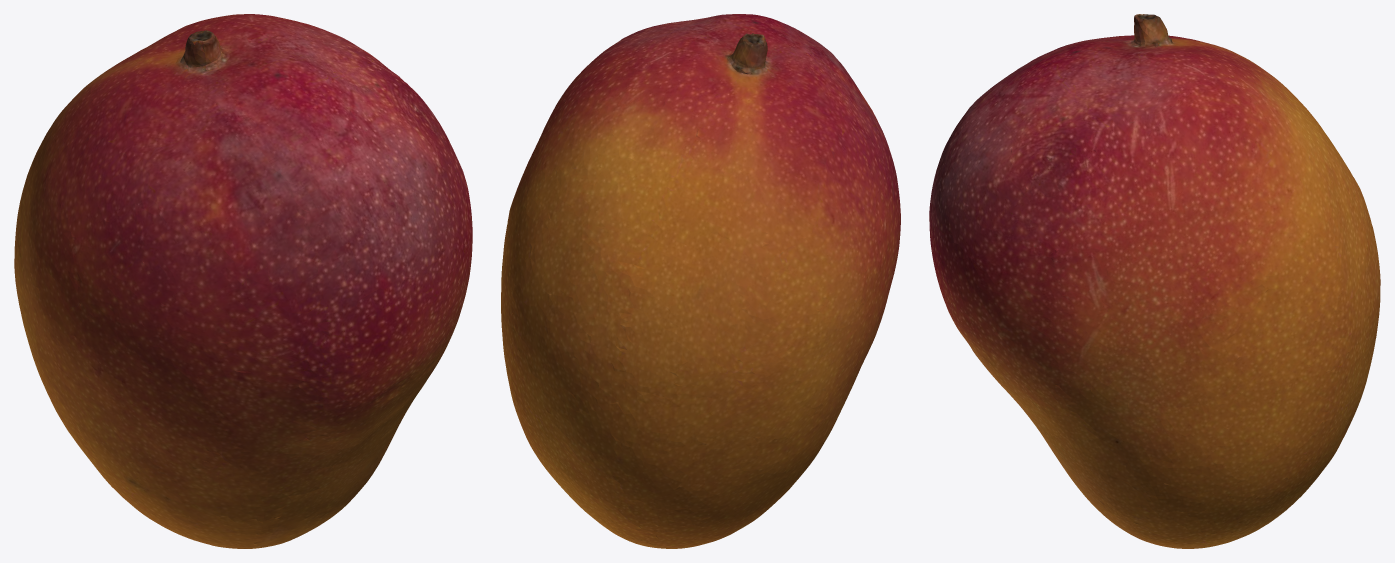
Rendered from mango.glb.
3 renders of one model, left to right at view 1: azimuth 30°, elevation 25°; view 2: azimuth 150°, elevation 25°; view 3: azimuth 270°, elevation 25°, orthographic. The views are drawn at different scales.
Visible parts, largest first — view 1: default; view 2: default; view 3: default.
Boxes of the visible parts, left/top/right/bottom form: default: left=14, top=14, right=472, bottom=548; default: left=501, top=14, right=900, bottom=548; default: left=929, top=14, right=1380, bottom=548.
Bounding box in the file's own units: 0.063 × 0.0875 × 0.0724.
Materials: 1 (1 with a texture image).
